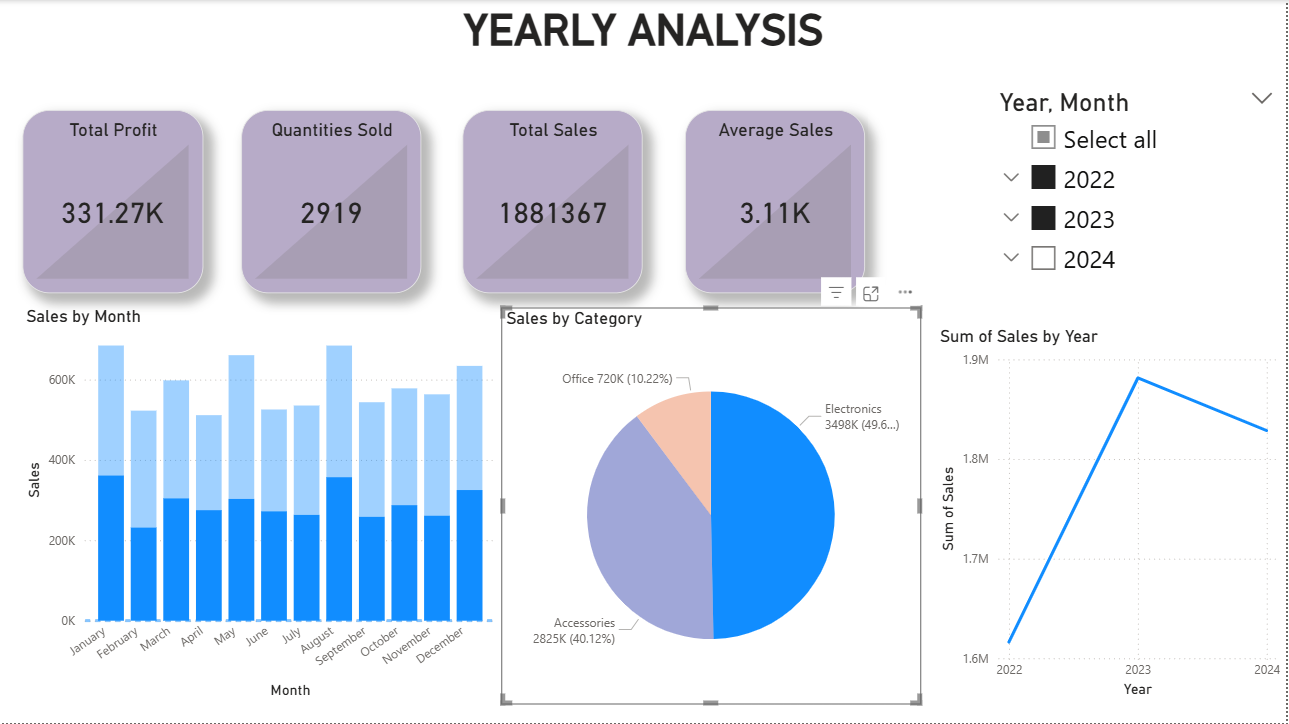

The page's visual inventory and layout, read from the dashboard file:
{"tool":"powerbi","page":{"name":"Yearly Analysis","canvas":[1280,720],"ordinal":1},"visuals":[{"type":"columnChart","fields":{"Category":["raw_data.Order Date.Variation.Date Hierarchy.Month"],"Y":["Sum(raw_data.Sales)"]},"box":[21.4,305,477.5,394.8],"z":0},{"type":"slicer","fields":{"Values":["raw_data.Order Date.Variation.Date Hierarchy.Year","raw_data.Order Date.Variation.Date Hierarchy.Month"]},"box":[982.1,82.7,297.9,212.4],"z":1000},{"type":"textbox","box":[0,0,1280.3,82.3],"z":2000},{"type":"kpi","title":"Total Profit","fields":{"Indicator":["Sum(raw_data.Profit)"],"TrendLine":["raw_data.Order Date.Variation.Date Hierarchy.Year"]},"box":[22,109.8,179.8,182.5],"z":3000},{"type":"kpi","title":"Quantities Sold","fields":{"TrendLine":["raw_data.Order Date.Variation.Date Hierarchy.Year"],"Indicator":["Sum(raw_data.Quantity)"]},"box":[239.5,109.8,179.6,182.4],"z":4000},{"type":"kpi","title":"Total Sales","fields":{"TrendLine":["raw_data.Order Date.Variation.Date Hierarchy.Year"],"Indicator":["Sum(raw_data.Sales)"]},"box":[460.4,109.8,179.6,182.4],"z":5000},{"type":"pieChart","title":"Sales by Category","fields":{"Category":["raw_data.Category"],"Y":["Sum(raw_data.Sales)"]},"box":[498.9,306.5,417.6,394.8],"z":6000},{"type":"kpi","title":"Average Sales","fields":{"Indicator":["Avg(raw_data.Sales)"],"TrendLine":["raw_data.Order Date.Variation.Date Hierarchy.Year"]},"box":[681.3,109.8,179.6,182.4],"z":7000},{"type":"lineChart","fields":{"Category":["raw_data.Order Date.Variation.Date Hierarchy.Year"],"Y":["Sum(raw_data.Sales)"]},"box":[930.5,324.7,348.3,374.4],"z":8000}]}

Visuals, with their boxes in screenshot pixels (x1, y1, x2, y2), scaled from the page's 1280x720 canvas onto the 1289x724 screenshot:
columnChart - raw_data.Order Date.Variation.Date Hierarchy.Month x Sum(raw_data.Sales): select_region(22, 307, 502, 704)
slicer - raw_data.Order Date.Variation.Date Hierarchy.Year x raw_data.Order Date.Variation.Date Hierarchy.Month: select_region(989, 83, 1288, 297)
textbox: select_region(0, 0, 1288, 83)
"Total Profit" kpi: select_region(22, 110, 203, 294)
"Quantities Sold" kpi: select_region(241, 110, 422, 294)
"Total Sales" kpi: select_region(464, 110, 644, 294)
"Sales by Category" pieChart: select_region(502, 308, 923, 705)
"Average Sales" kpi: select_region(686, 110, 867, 294)
lineChart - raw_data.Order Date.Variation.Date Hierarchy.Year x Sum(raw_data.Sales): select_region(937, 327, 1288, 703)
